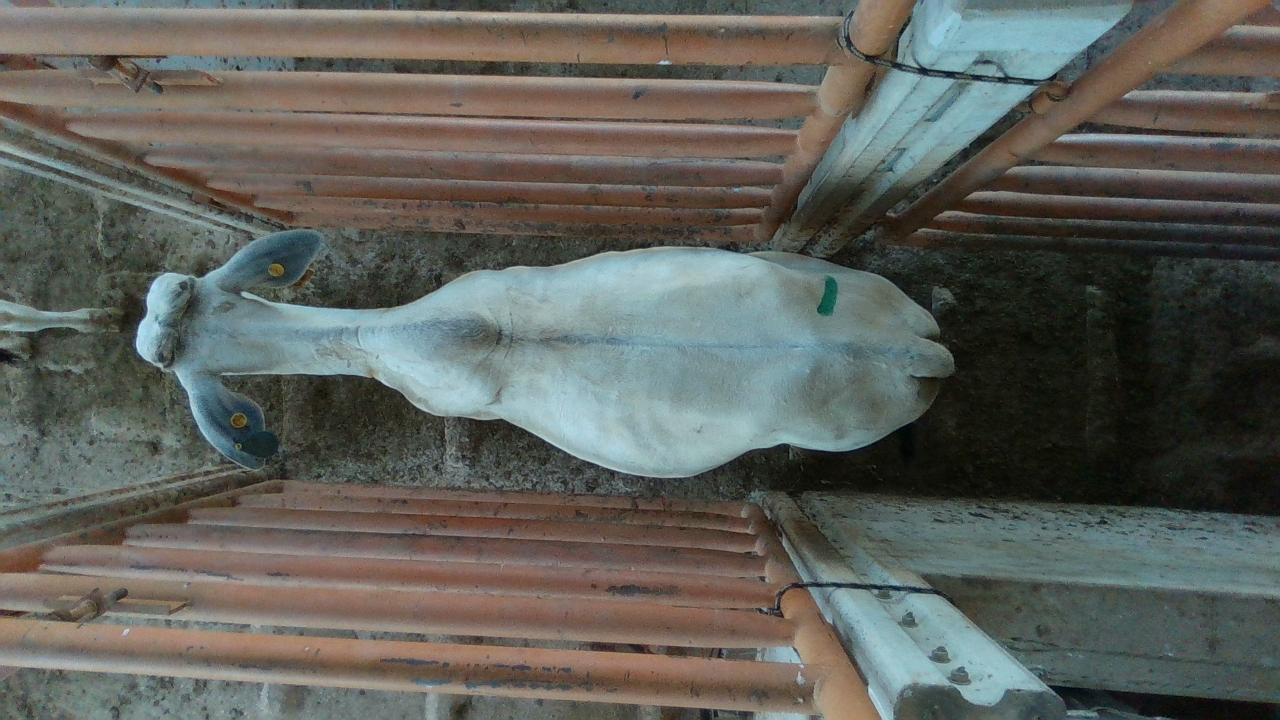cattle: (134, 226, 956, 479)
